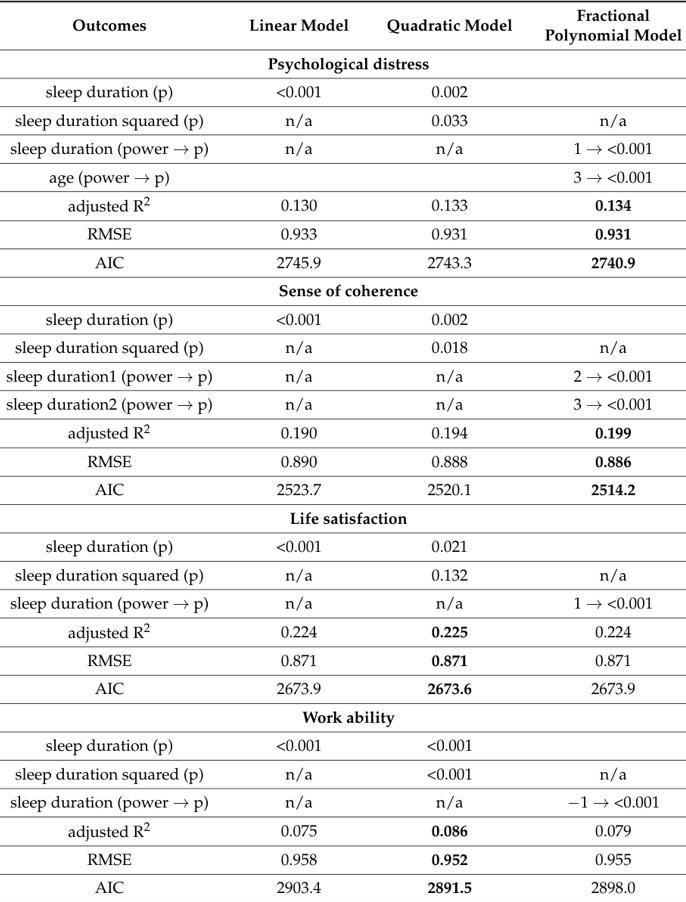table: (5, 5, 681, 897)
table column: (5, 5, 230, 897), (367, 5, 527, 897), (527, 5, 681, 897), (230, 5, 367, 897)
table column header: (5, 5, 681, 49)
table projected row header: (5, 49, 681, 77), (5, 276, 681, 304), (5, 503, 681, 531), (5, 702, 681, 730)
table row: (5, 5, 681, 49), (5, 133, 681, 167), (5, 361, 681, 395), (5, 588, 681, 621), (5, 787, 681, 820), (5, 247, 681, 276), (5, 332, 681, 361), (5, 446, 681, 475), (5, 531, 681, 560), (5, 645, 681, 674), (5, 730, 681, 759), (5, 844, 681, 873), (5, 49, 681, 77), (5, 77, 681, 105), (5, 105, 681, 133), (5, 167, 681, 195), (5, 219, 681, 247), (5, 276, 681, 304), (5, 304, 681, 332), (5, 475, 681, 503), (5, 503, 681, 531), (5, 560, 681, 588), (5, 674, 681, 702), (5, 702, 681, 730), (5, 759, 681, 787), (5, 395, 681, 422), (5, 195, 681, 219), (5, 422, 681, 446), (5, 621, 681, 645), (5, 820, 681, 844), (5, 873, 681, 897)
